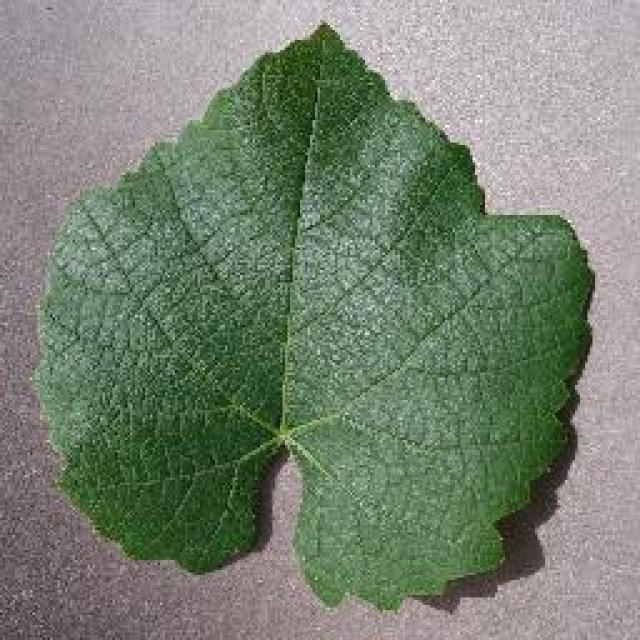Grape___healthy: (35, 25, 590, 608)
